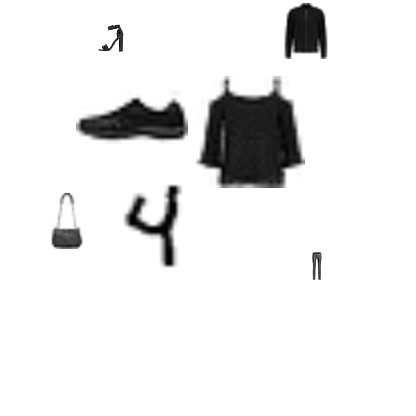4: (101, 166, 213, 278)
Bag: (38, 193, 94, 249)
Coat: (277, 3, 333, 59)
Sandal: (97, 24, 125, 52)
Shirt: (193, 76, 305, 188)
Sneaker: (76, 59, 188, 171)
Trouser: (303, 252, 331, 280)
